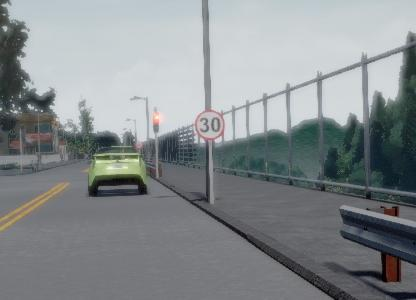Speed_30: (194, 109, 225, 142)
